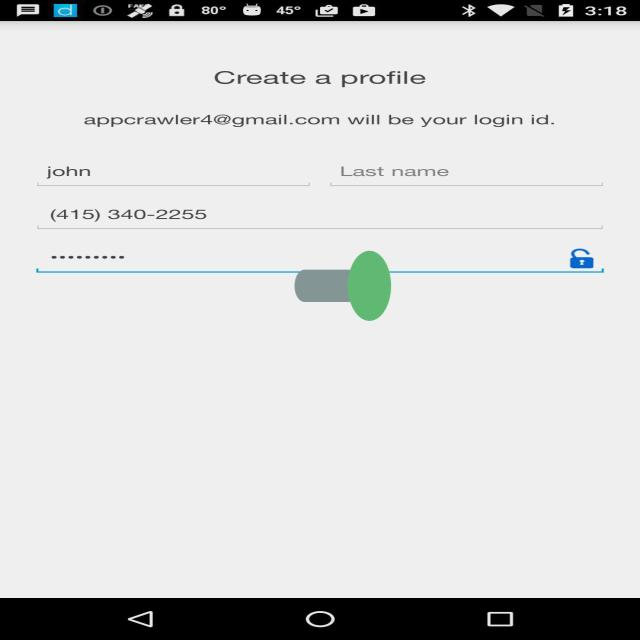social proof: (295, 208, 391, 364)
